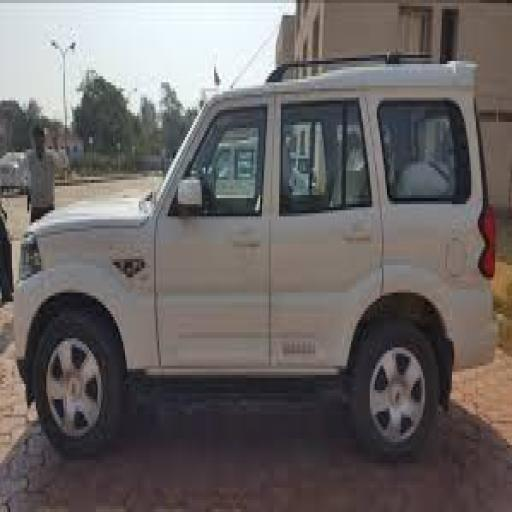car: (10, 46, 499, 500)
